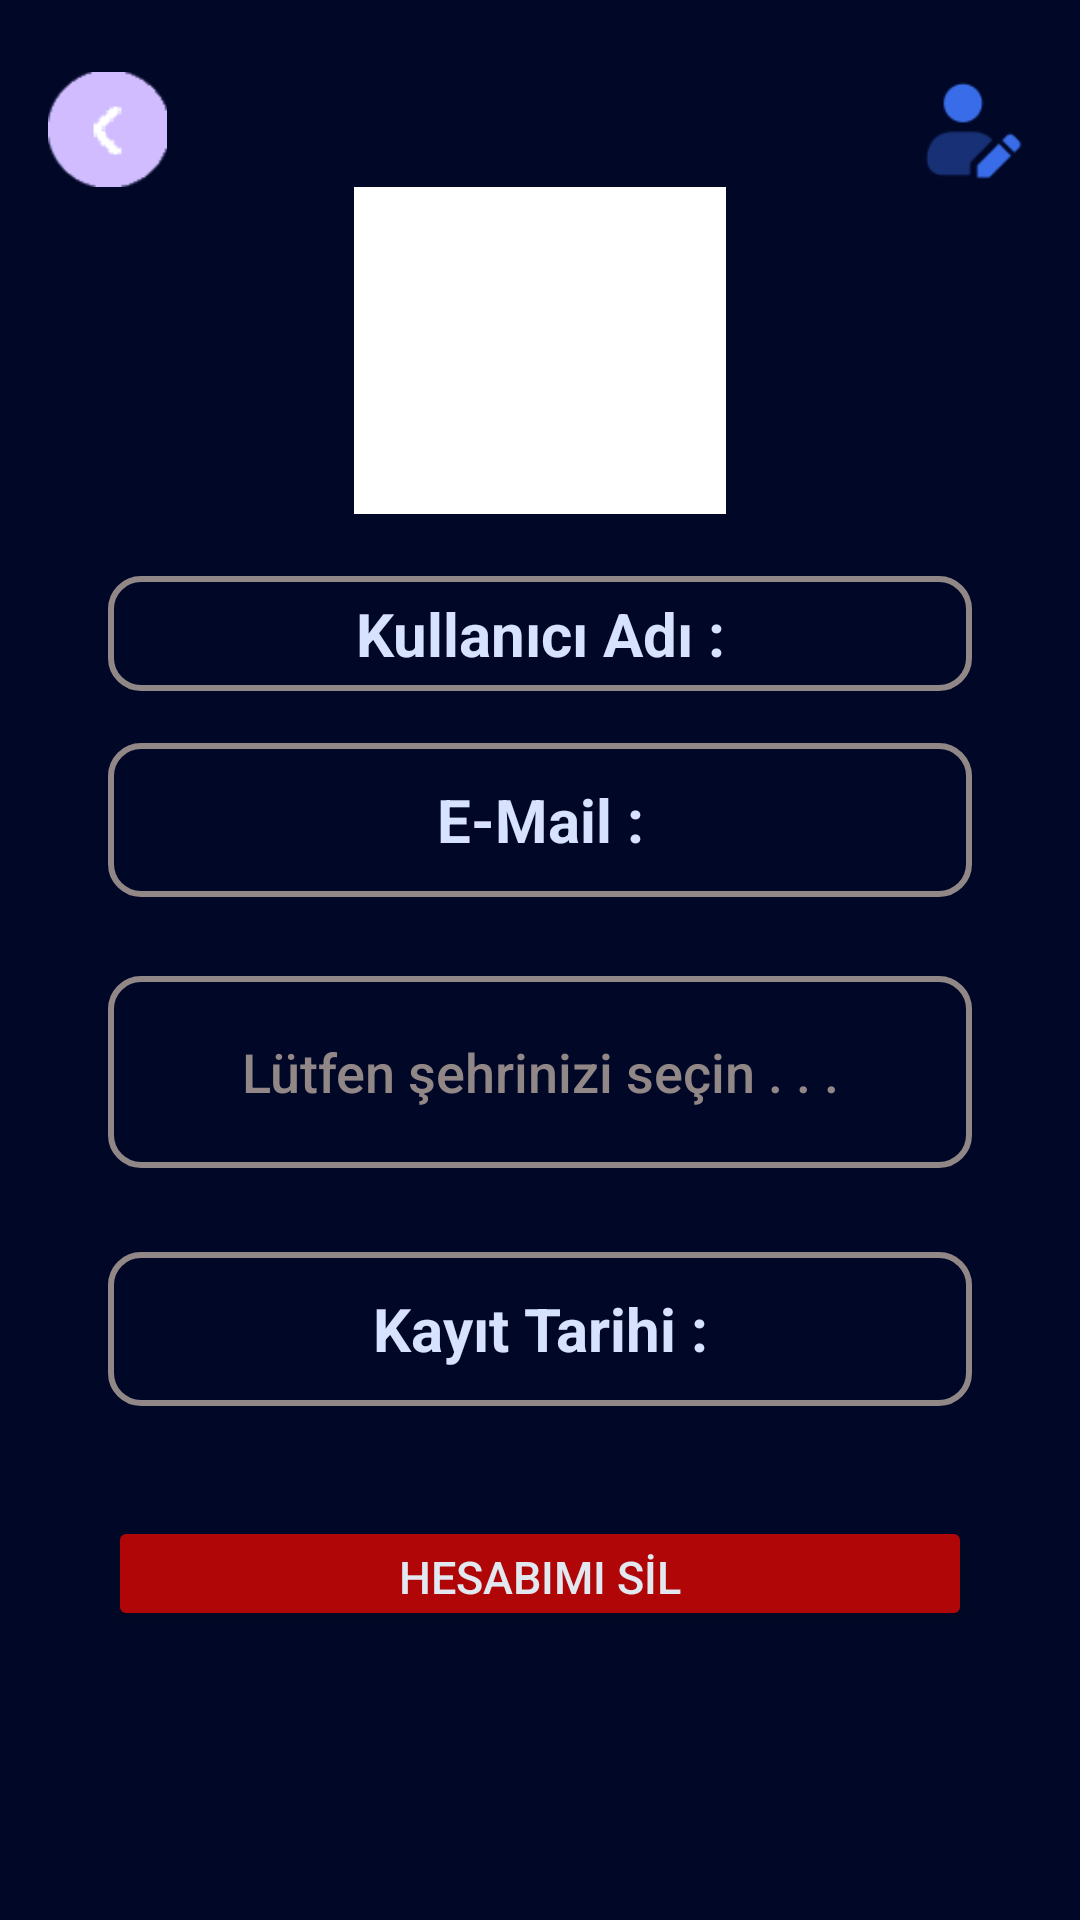

Named icons in this screenshot (1080 x 1920) and their centers, point (x, y):
back: point (107, 129)
edit: point (974, 131)
